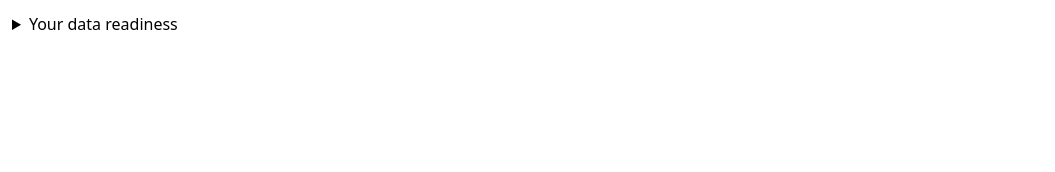
Test: failed readiness requests show retry without fabricated data
Click the heading "Your data readiness" at point(103, 24), box top-left (29, 13), bottom-right (178, 35)
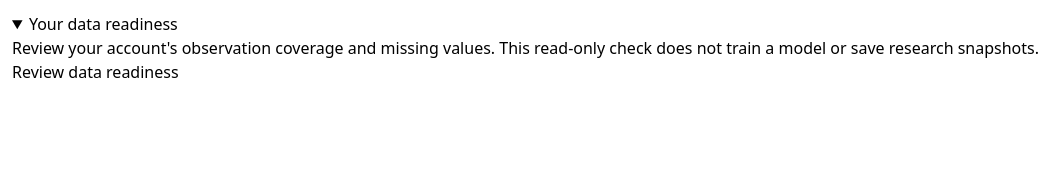
Click the button "Review data readiness" at point(95, 72), box top-left (12, 60), bottom-right (179, 84)
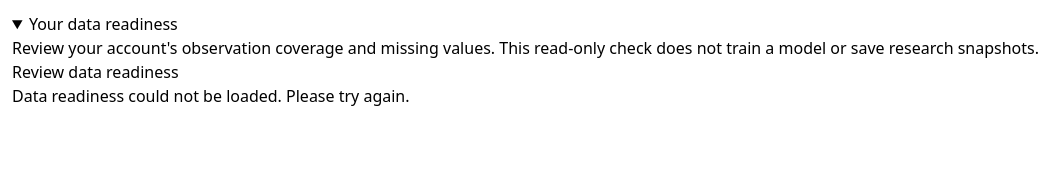
Expected: the button "Review data readiness" is enabled, top-left (12, 60), bottom-right (179, 84)
Expected: the message shows "could not be loaded", top-left (12, 85), bottom-right (410, 107)
